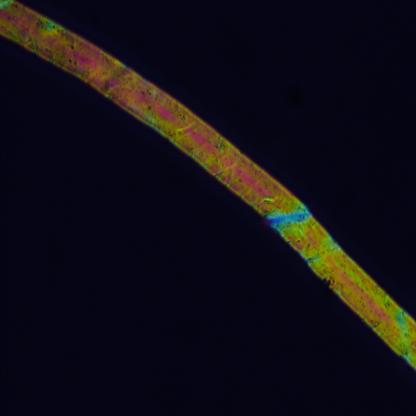Microfibre: (0, 1, 416, 367)
